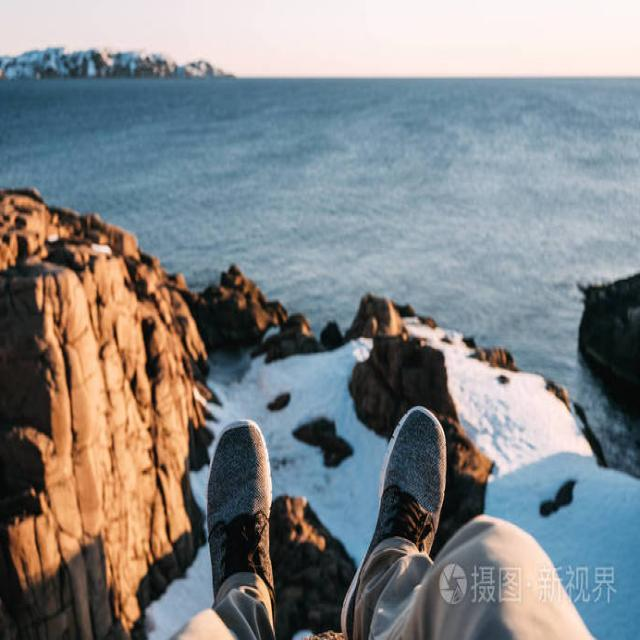reef: (340, 252, 520, 408), (173, 264, 312, 356)
